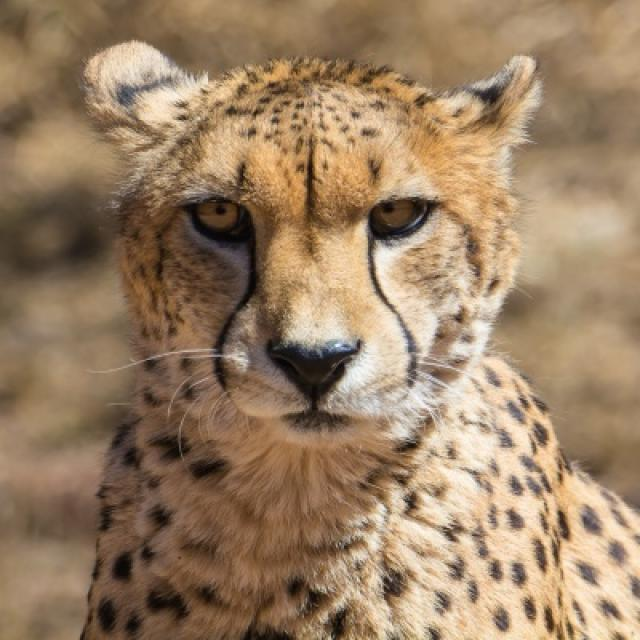Cheetah: (70, 36, 638, 638)
